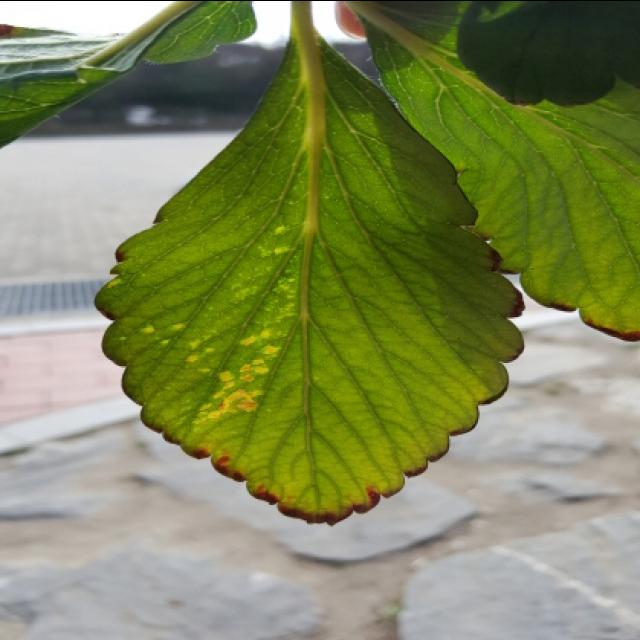Angular Leafspot: (109, 213, 309, 444)
